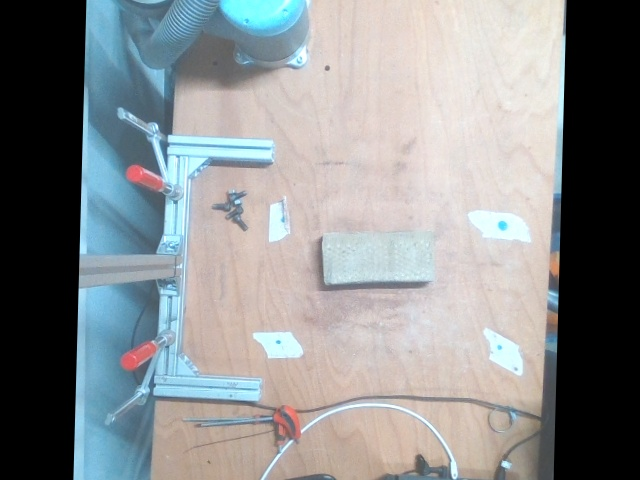brick: (321, 229, 437, 284)
